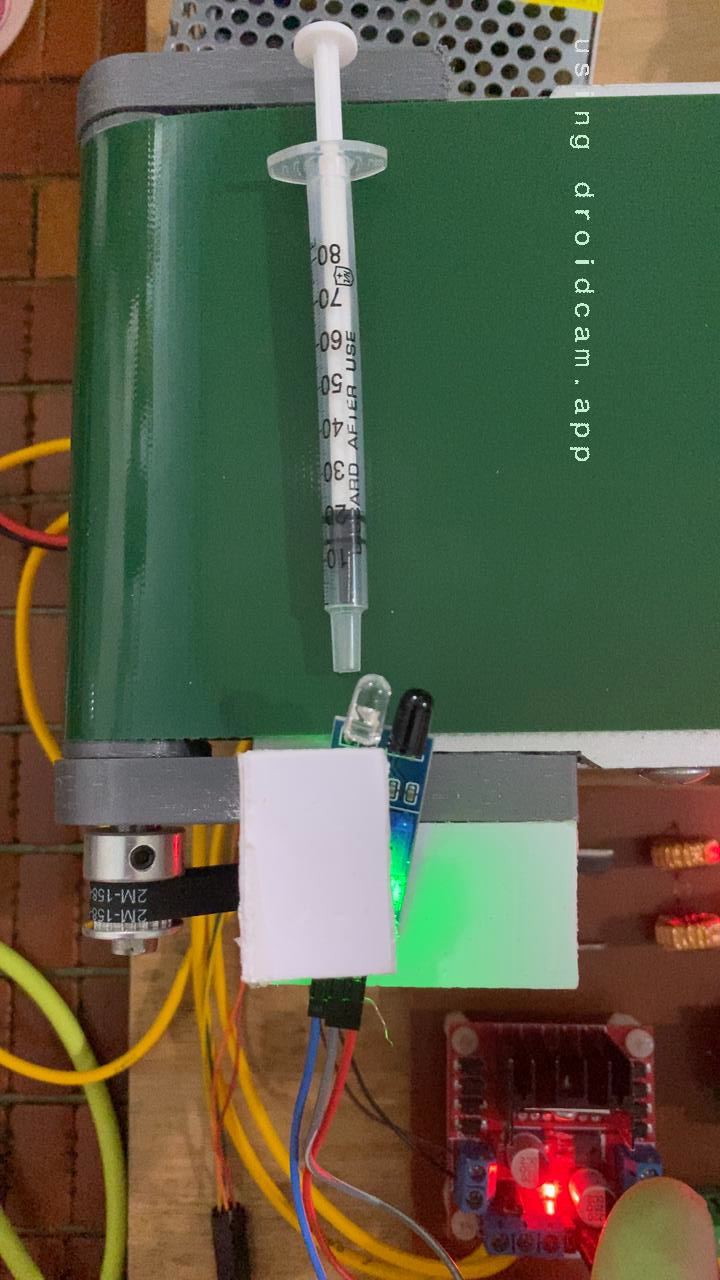syringe: (0, 100, 396, 732)
